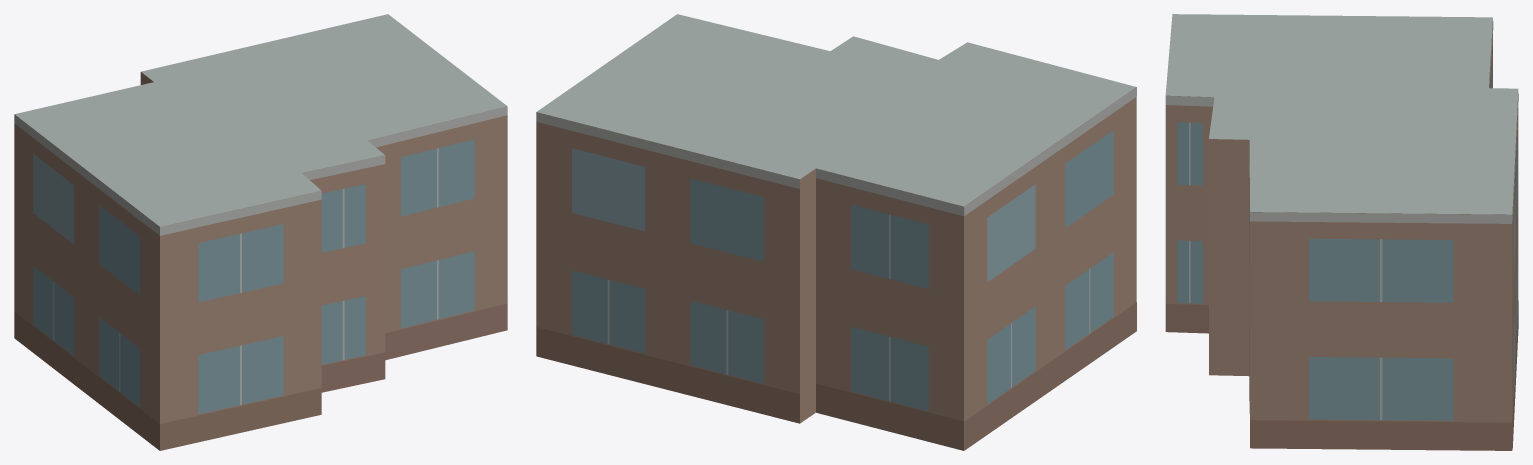
Rendered from survey-upis-32499930.glb.
3 renders of one model, left to right at view 1: azimuth 30°, elevation 25°; view 2: azimuth 150°, elevation 25°; view 3: azimuth 270°, elevation 25°, orthographic. The views are drawn at different scales.
Visible parts, largest first — view 1: survey-upis-32499930.tmp; view 2: survey-upis-32499930.tmp; view 3: survey-upis-32499930.tmp.
Part boxes in pixels (left/top/right/bottom): survey-upis-32499930.tmp: left=14, top=14, right=507, bottom=450; survey-upis-32499930.tmp: left=536, top=14, right=1136, bottom=450; survey-upis-32499930.tmp: left=1165, top=14, right=1518, bottom=450.
Bounding box in the file's own units: 11.11 × 6.1 × 8.27.
